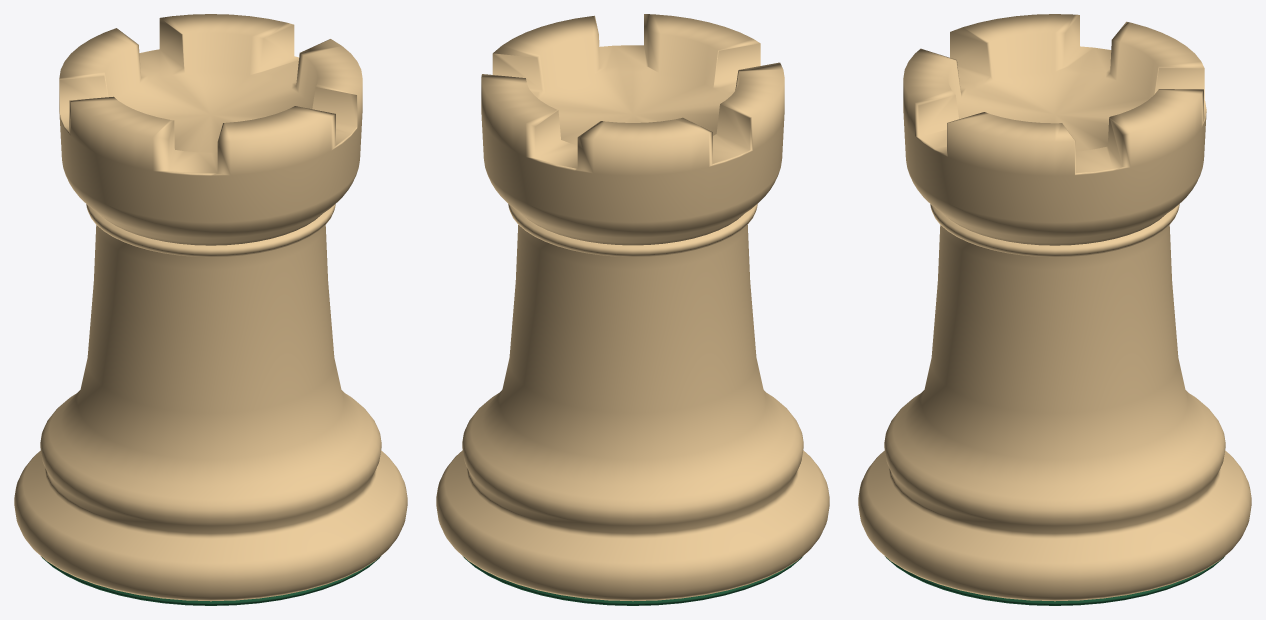
File: rook.glb
3 views of the same model, side by side, from view 1: azimuth 30°, elevation 25°; view 2: azimuth 150°, elevation 25°; view 3: azimuth 270°, elevation 25° (orthographic).
Parts seen in each view (by area): view 1: Rook, Felt; view 2: Rook, Felt; view 3: Rook, Felt.
Part boxes in pixels (bbox=[...]): Rook: bbox=[14, 14, 407, 601]; Felt: bbox=[41, 556, 380, 605]; Rook: bbox=[436, 14, 829, 601]; Felt: bbox=[463, 556, 802, 605]; Rook: bbox=[858, 14, 1251, 601]; Felt: bbox=[885, 556, 1224, 605].
Size of the model in its own units: 0.068 by 0.086 by 0.068.
